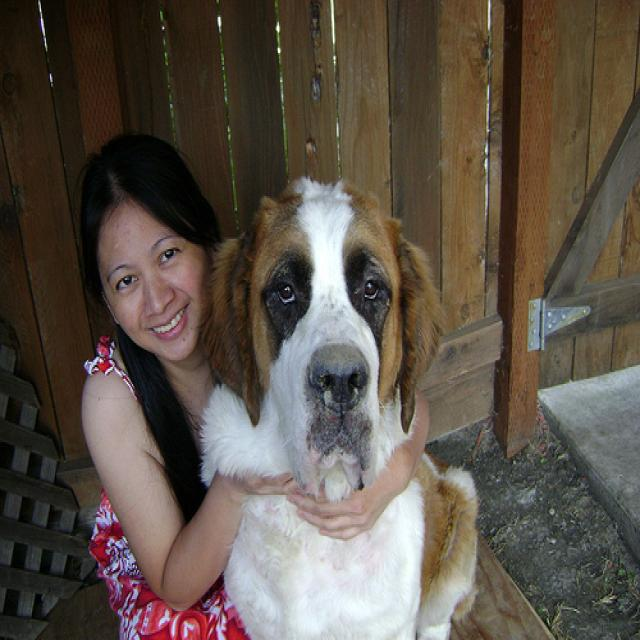dog-saint_bernard: (186, 166, 486, 637)
